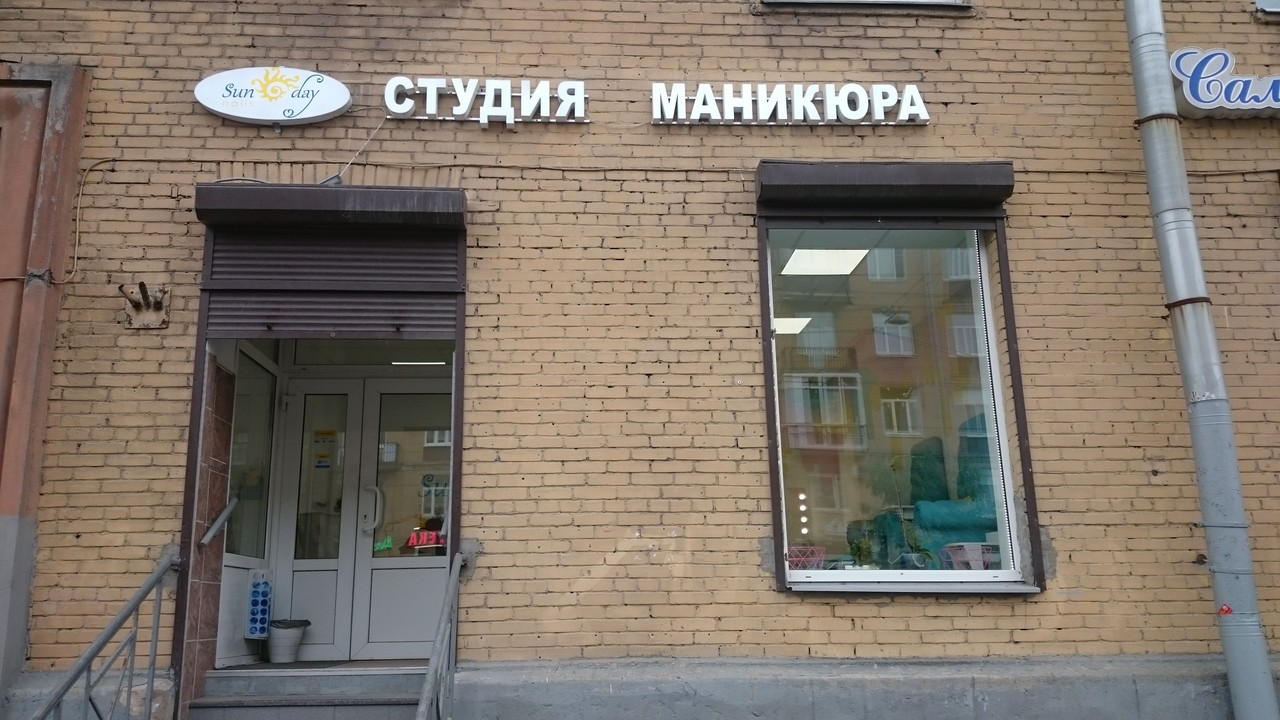door: (359, 374, 449, 661)
signboard: (191, 64, 934, 134)
window: (759, 218, 1018, 585)
